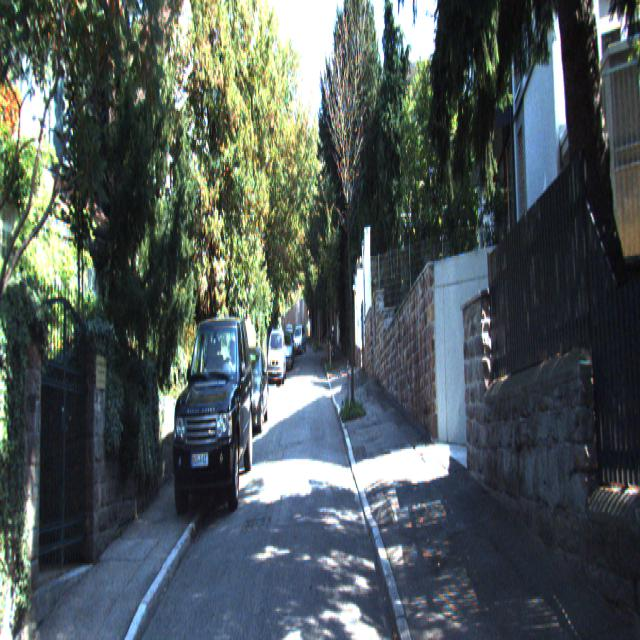Car: (167, 303, 255, 528), (228, 341, 269, 444), (267, 328, 287, 389), (280, 329, 294, 371), (291, 323, 306, 356)
